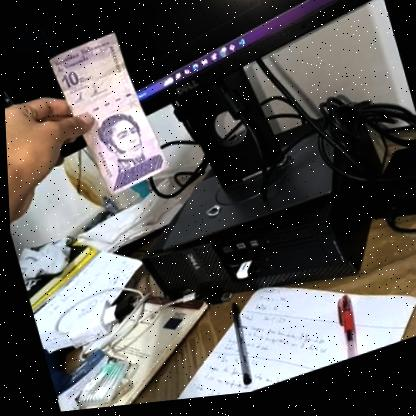ten-front-vef: (43, 25, 170, 208)
